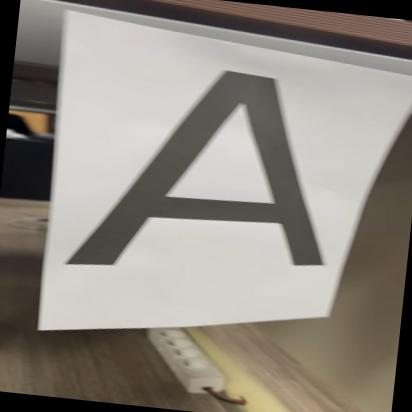seat: (99, 43, 394, 142), (68, 66, 144, 298)
